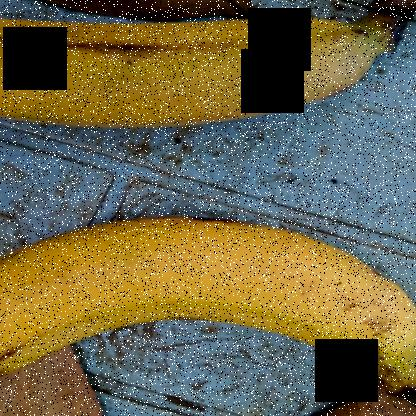freshripe: (8, 199, 416, 415)
ripe: (0, 0, 381, 151)
